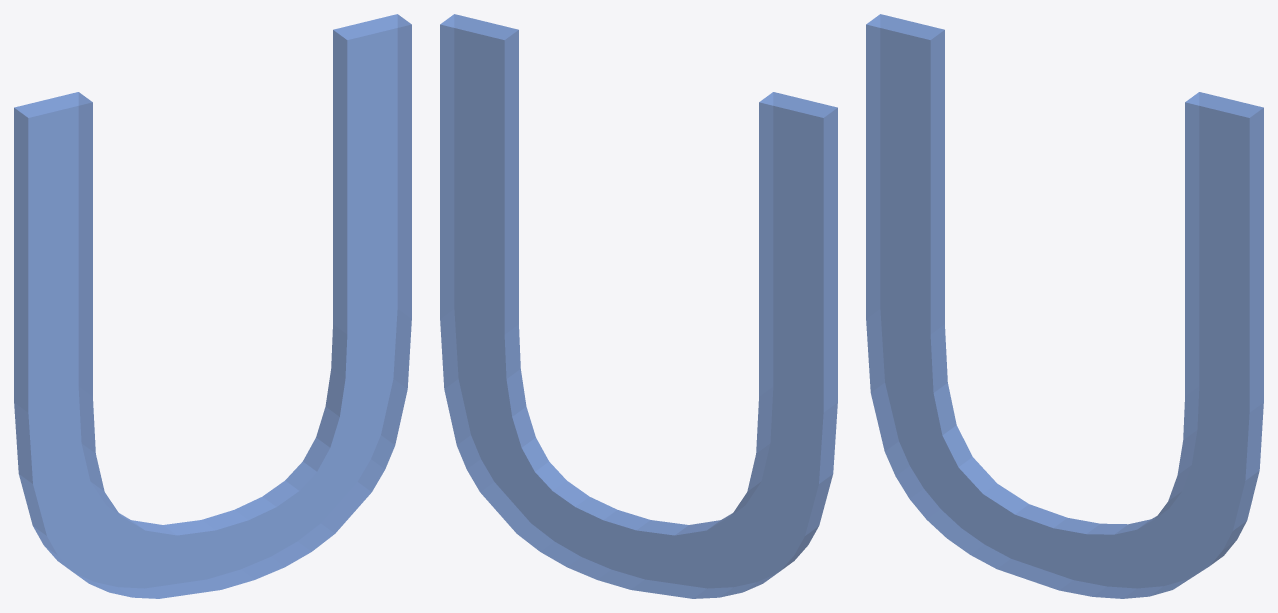
File: original-73.obj
3 renders of one model, left to right at view 1: azimuth 30°, elevation 25°; view 2: azimuth 150°, elevation 25°; view 3: azimuth 330°, elevation 25°, orthographic.
Visible parts, largest first — view 1: mesh101/mesh101-geometry#mesh101-geometry; view 2: mesh101/mesh101-geometry#mesh101-geometry; view 3: mesh101/mesh101-geometry#mesh101-geometry.
Boxes of the visible parts, bbox=[...] form: mesh101/mesh101-geometry#mesh101-geometry: bbox=[14, 14, 411, 598]; mesh101/mesh101-geometry#mesh101-geometry: bbox=[440, 14, 837, 598]; mesh101/mesh101-geometry#mesh101-geometry: bbox=[866, 14, 1263, 598].
Size of the model in its own units: 0.0174 by 0.0225 by 0.00113.
